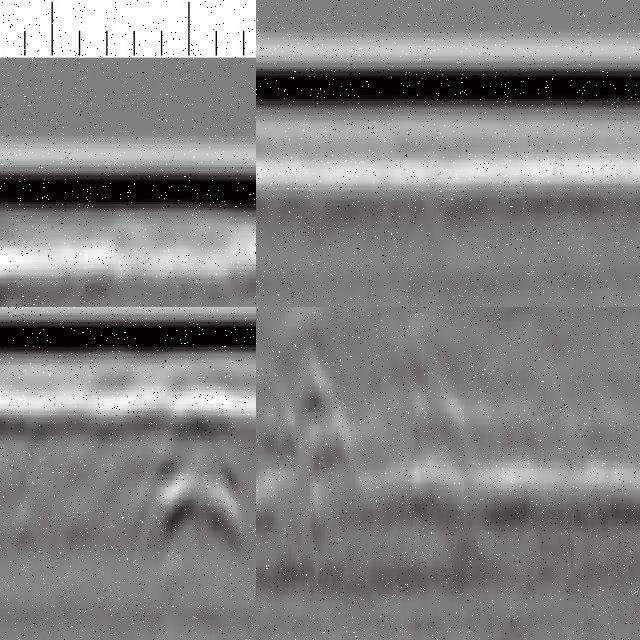loose: (1, 391, 242, 553)
